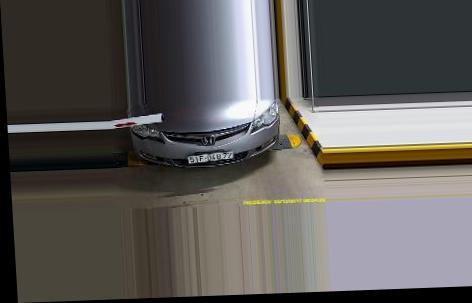License_Plate: (186, 150, 235, 164)
